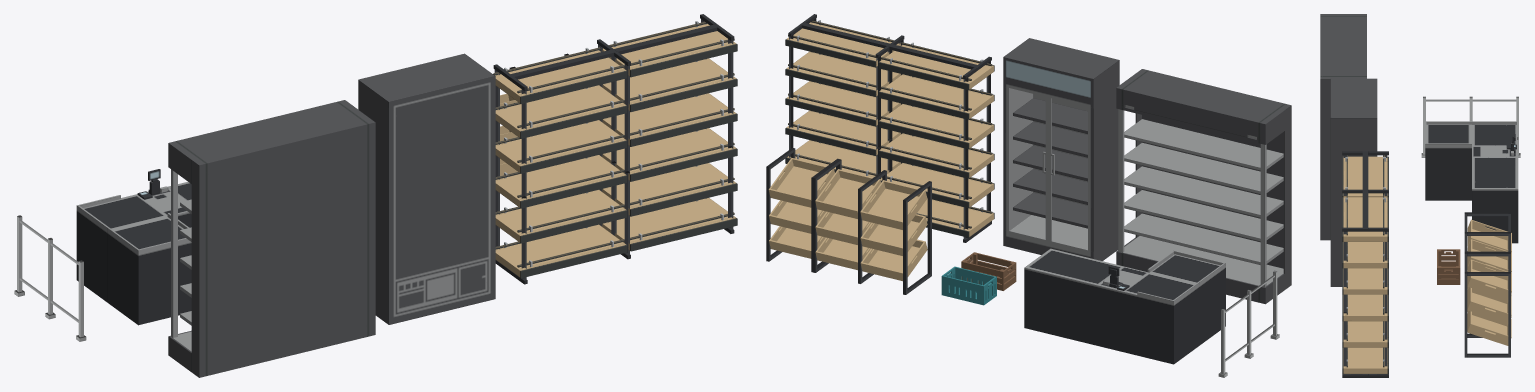
3 views of the same model, side by side, from view 1: azimuth 30°, elevation 25°; view 2: azimuth 150°, elevation 25°; view 3: azimuth 270°, elevation 25° (orthographic). The views are drawn at different scales.
Parts seen in each view (by area): view 1: Fridge$$(1)-Local_109, Fridge-Local_107, Fridge$$(3)-Local_117, Fridge$$(2)-Local_119, ShelfParts$$(1)-Local_9, ShelfParts-Local_7, ShelfParts$$(2)-Local_11, ShelfParts$$(5)-Local_17, ShelfParts$$(3)-Local_13, ShelfParts$$(10)-Local_27, ShelfParts$$(11)-Local_29, ShelfParts$$(8)-Local_23 (+6 smaller); view 2: Fridge$$(1)-Local_109, Fridge-Local_107, Fridge$$(2)-Local_119, Fridge$$(3)-Local_117, ShelfParts$$(2)-Local_11, ShelfParts$$(3)-Local_13, ShelfParts$$(5)-Local_17, ShelfParts$$(7)-Local_21, ShelfParts$$(8)-Local_23, ShelfParts$$(9)-Local_25, ShelfParts$$(4)-Local_15, ShelfParts$$(1)-Local_9 (+21 smaller); view 3: Fridge-Local_107, Fridge$$(2)-Local_119, Fridge$$(1)-Local_109, Fridge$$(3)-Local_117, ShelfParts$$(6)-Local_19, ShelfParts$$(4)-Local_15, ShelfParts$$(9)-Local_25, ShelfParts$$(7)-Local_21, ShelfParts$$(10)-Local_27, ShelfParts$$(8)-Local_23, ShelfParts$$(11)-Local_29, Shelf-3Parts2$$(2)-Local_81 (+17 smaller).
Part boxes in pixels (left/top/right/bottom): Fridge$$(1)-Local_109: left=168, top=100, right=375, bottom=377; Fridge-Local_107: left=358, top=53, right=495, bottom=324; Fridge$$(3)-Local_117: left=107, top=213, right=191, bottom=325; Fridge$$(2)-Local_119: left=76, top=169, right=191, bottom=302; ShelfParts$$(1)-Local_9: left=495, top=190, right=627, bottom=243; ShelfParts-Local_7: left=495, top=224, right=627, bottom=278; ShelfParts$$(2)-Local_11: left=495, top=120, right=627, bottom=173; ShelfParts$$(5)-Local_17: left=495, top=85, right=627, bottom=138; ShelfParts$$(3)-Local_13: left=495, top=155, right=627, bottom=208; ShelfParts$$(10)-Local_27: left=602, top=163, right=737, bottom=216; ShelfParts$$(11)-Local_29: left=602, top=198, right=737, bottom=251; ShelfParts$$(8)-Local_23: left=602, top=93, right=737, bottom=146; Fridge$$(1)-Local_109: left=1116, top=69, right=1291, bottom=304; Fridge-Local_107: left=1003, top=38, right=1119, bottom=260; Fridge$$(2)-Local_119: left=1024, top=248, right=1199, bottom=364; Fridge$$(3)-Local_117: left=1147, top=250, right=1225, bottom=344; ShelfParts$$(2)-Local_11: left=878, top=104, right=994, bottom=149; ShelfParts$$(3)-Local_13: left=878, top=133, right=994, bottom=178; ShelfParts$$(5)-Local_17: left=878, top=74, right=994, bottom=119; ShelfParts$$(7)-Local_21: left=785, top=51, right=900, bottom=96; ShelfParts$$(8)-Local_23: left=785, top=81, right=900, bottom=126; ShelfParts$$(9)-Local_25: left=785, top=110, right=900, bottom=155; ShelfParts$$(4)-Local_15: left=878, top=42, right=994, bottom=90; ShelfParts$$(1)-Local_9: left=880, top=163, right=994, bottom=208; Fridge-Local_107: left=1330, top=78, right=1377, bottom=286; Fridge$$(2)-Local_119: left=1472, top=121, right=1518, bottom=243; Fridge$$(1)-Local_109: left=1320, top=14, right=1366, bottom=240; Fridge$$(3)-Local_117: left=1425, top=121, right=1471, bottom=200; ShelfParts$$(6)-Local_19: left=1342, top=194, right=1388, bottom=241; ShelfParts$$(4)-Local_15: left=1342, top=155, right=1388, bottom=197; ShelfParts$$(9)-Local_25: left=1342, top=294, right=1388, bottom=321; ShelfParts$$(7)-Local_21: left=1342, top=242, right=1388, bottom=268; ShelfParts$$(10)-Local_27: left=1342, top=321, right=1388, bottom=347; ShelfParts$$(8)-Local_23: left=1342, top=268, right=1388, bottom=294; ShelfParts$$(11)-Local_29: left=1342, top=347, right=1388, bottom=373; Shelf-3Parts2$$(2)-Local_81: left=1467, top=259, right=1511, bottom=299.
Size of the model in its own units: 7.31 by 2.57 by 2.76.
56 materials, 56 textured.
